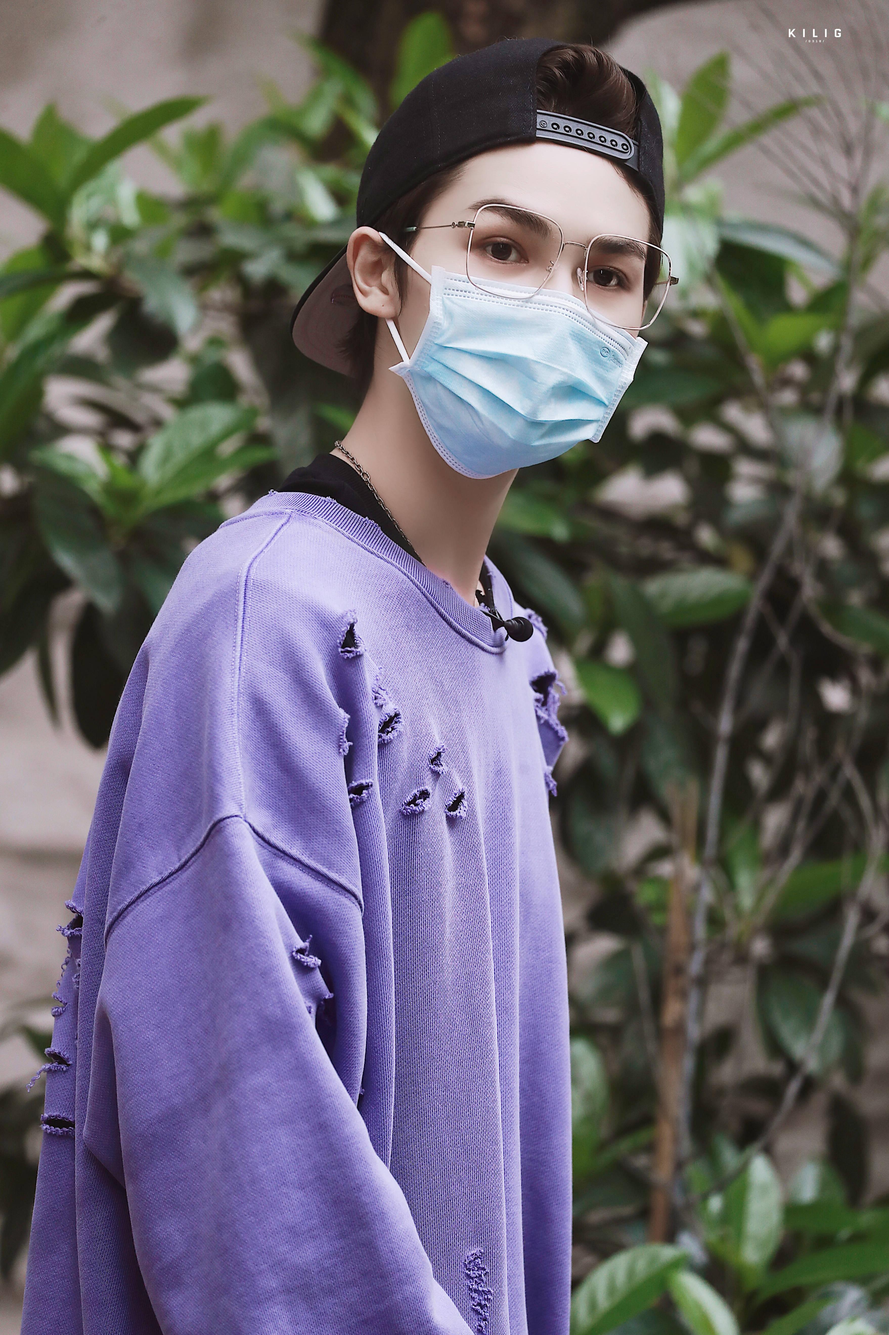OK: (402, 172, 648, 477)
